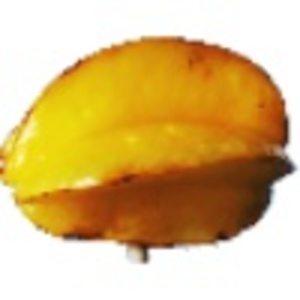carambola: (1, 35, 297, 265)
